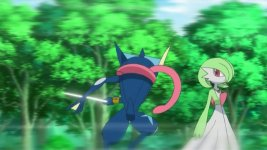gardevoir: (184, 50, 247, 150)
greninja: (60, 38, 182, 148)
